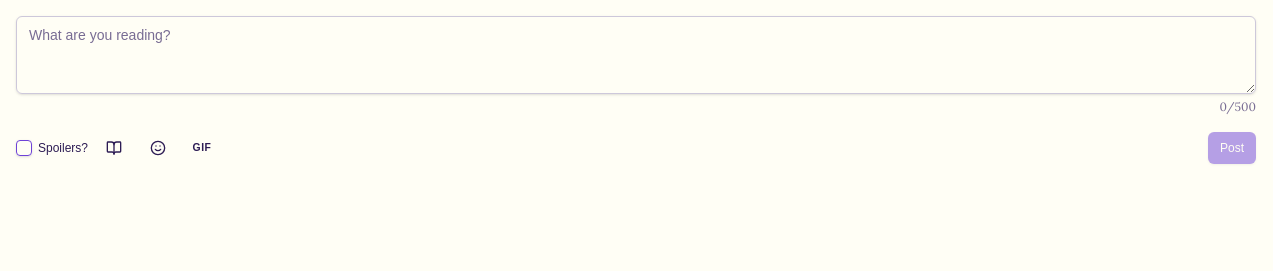
Scenario: PostComposer › Remove book clears the search panel
This screenshot has width=1273, height=271.
Click the button named "Add book" at (114, 148), box [96, 130, 132, 166]
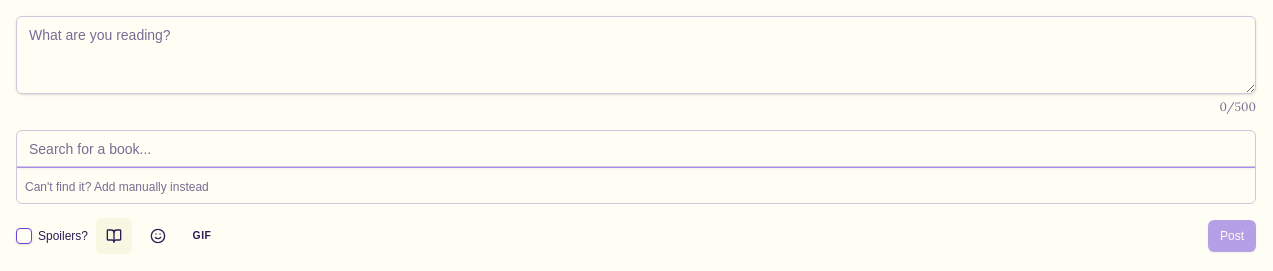
Click the button named "Remove book" at (114, 236), box [96, 218, 132, 254]
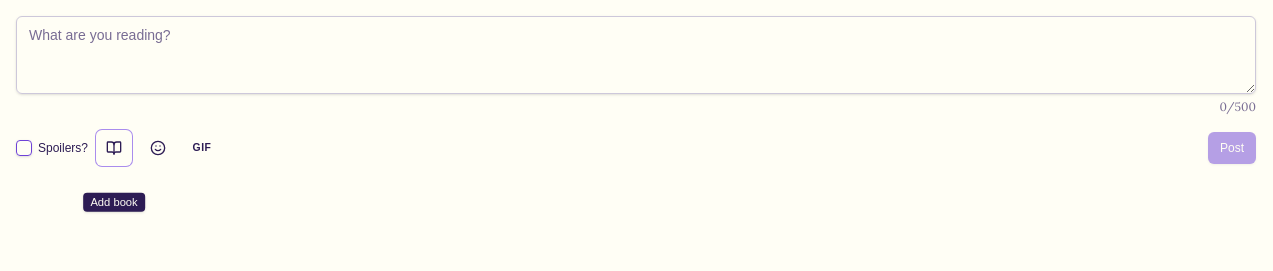
Check: the field with placeholder "Search for a book..." is not shown
Check: the button named "Add book" is shown, box [96, 130, 132, 166]
